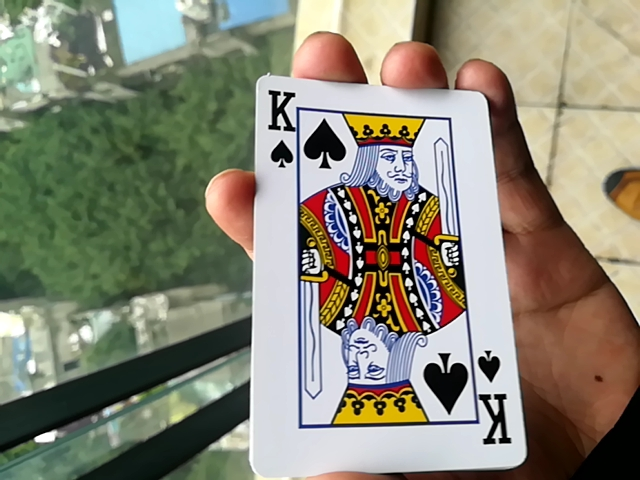ht k: (244, 84, 513, 469)
